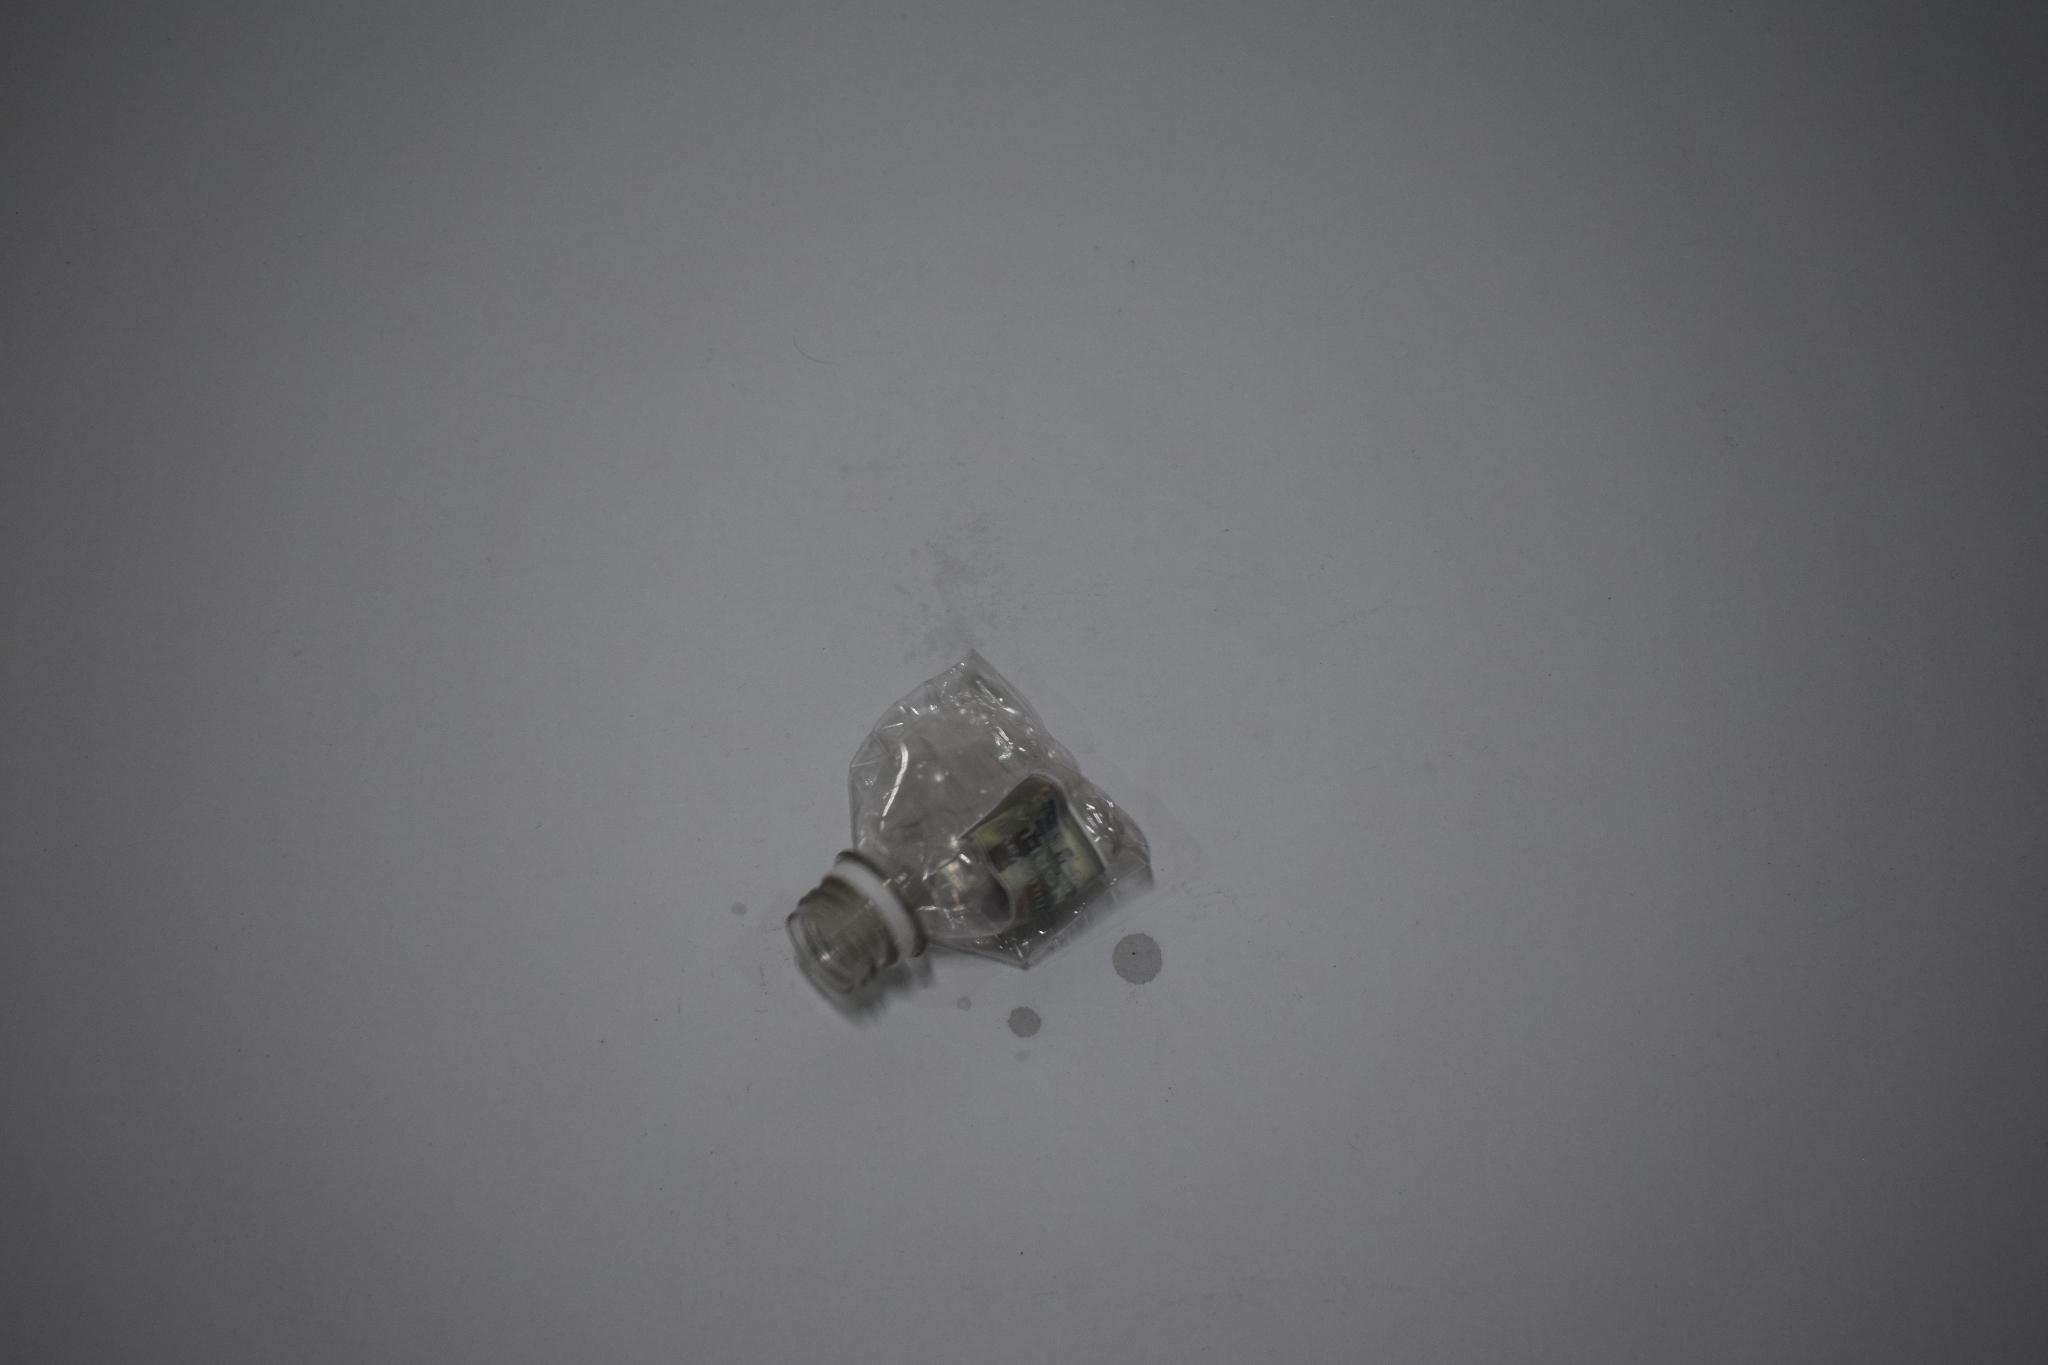bottle: (774, 649, 1160, 1017)
